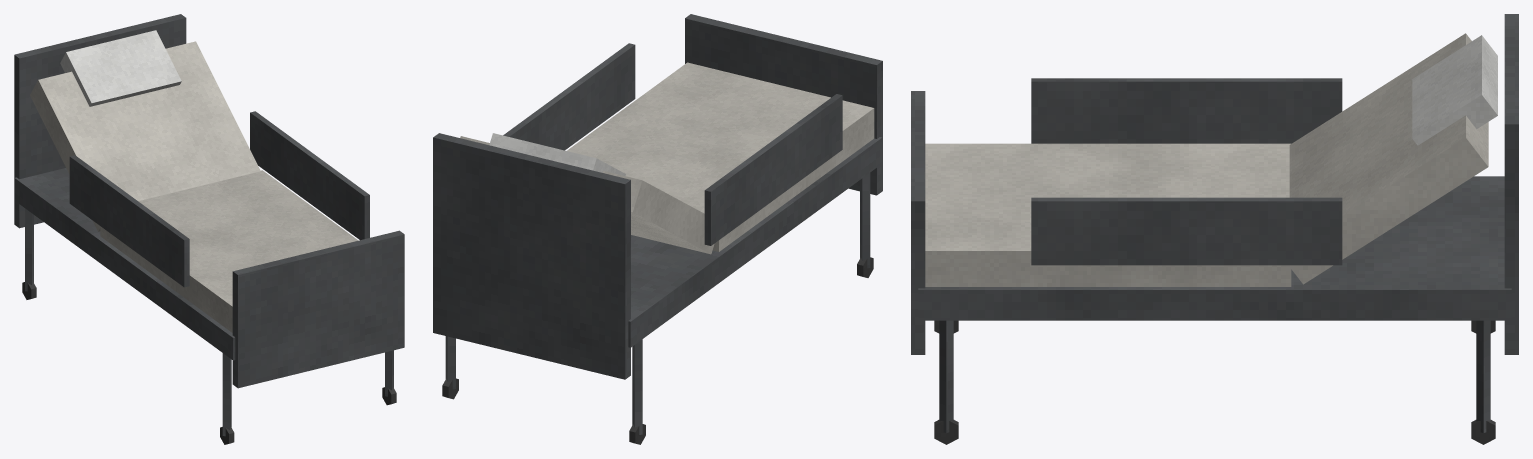
File: int_hospital_bed.glb
3 renders of one model, left to right at view 1: azimuth 30°, elevation 25°; view 2: azimuth 150°, elevation 25°; view 3: azimuth 270°, elevation 25°, orthographic. The views are drawn at different scales.
Parts seen in each view (by area): view 1: bed-col, detail; view 2: bed-col, detail; view 3: bed-col, detail.
Part boxes in pixels (x1,y1,x2,y2): bed-col: [14, 14, 404, 388]; detail: [22, 30, 396, 444]; bed-col: [433, 14, 882, 379]; detail: [442, 43, 873, 444]; bed-col: [911, 14, 1518, 354]; detail: [934, 35, 1497, 444].
Size of what is drawn, in the model's own units: 1.03 by 1.27 by 2.15.
4 materials, 4 textured.
